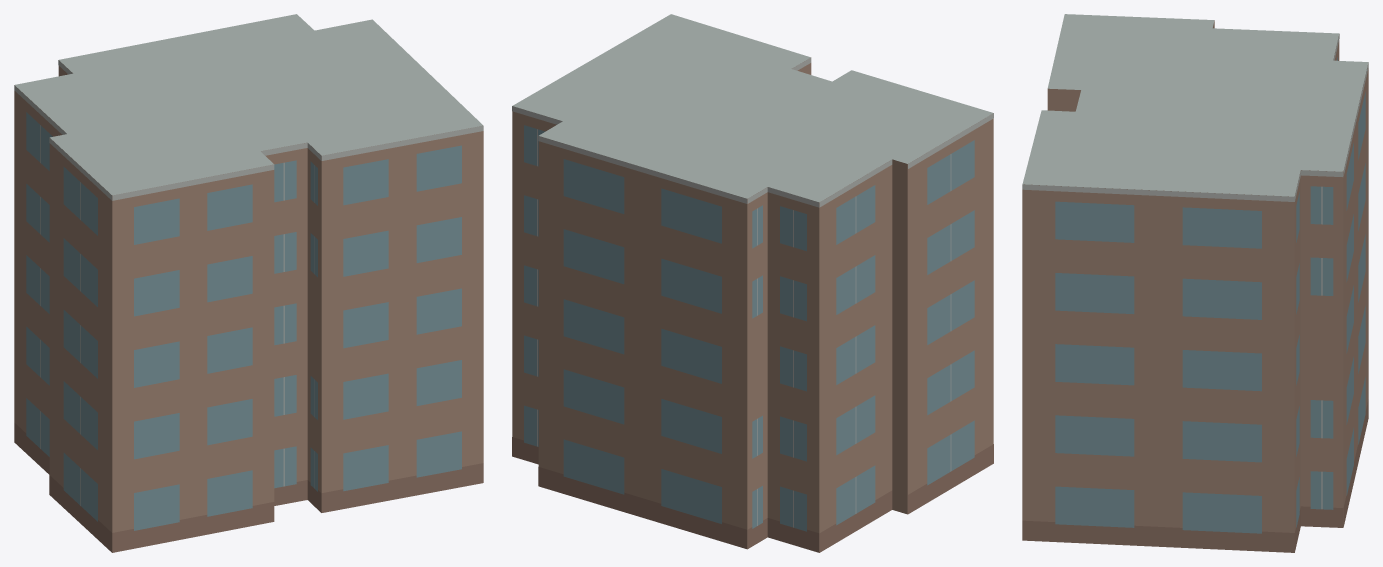
The model's file is survey-upis-33019662.glb.
3 views of the same model, side by side, from view 1: azimuth 30°, elevation 25°; view 2: azimuth 150°, elevation 25°; view 3: azimuth 270°, elevation 25° (orthographic).
Parts seen in each view (by area): view 1: survey-upis-33019662.tmp; view 2: survey-upis-33019662.tmp; view 3: survey-upis-33019662.tmp.
Boxes of the visible parts, <box> form: survey-upis-33019662.tmp: <box>14,14,483,552</box>; survey-upis-33019662.tmp: <box>512,14,993,552</box>; survey-upis-33019662.tmp: <box>1022,14,1368,552</box>.
Bounding box in the file's own units: 17.72 × 16.1 × 14.19.
